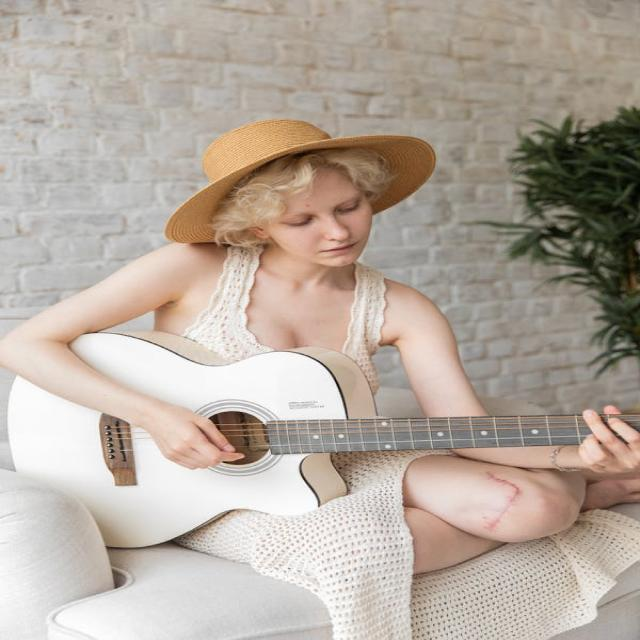Real human 2: (0, 110, 640, 600)
